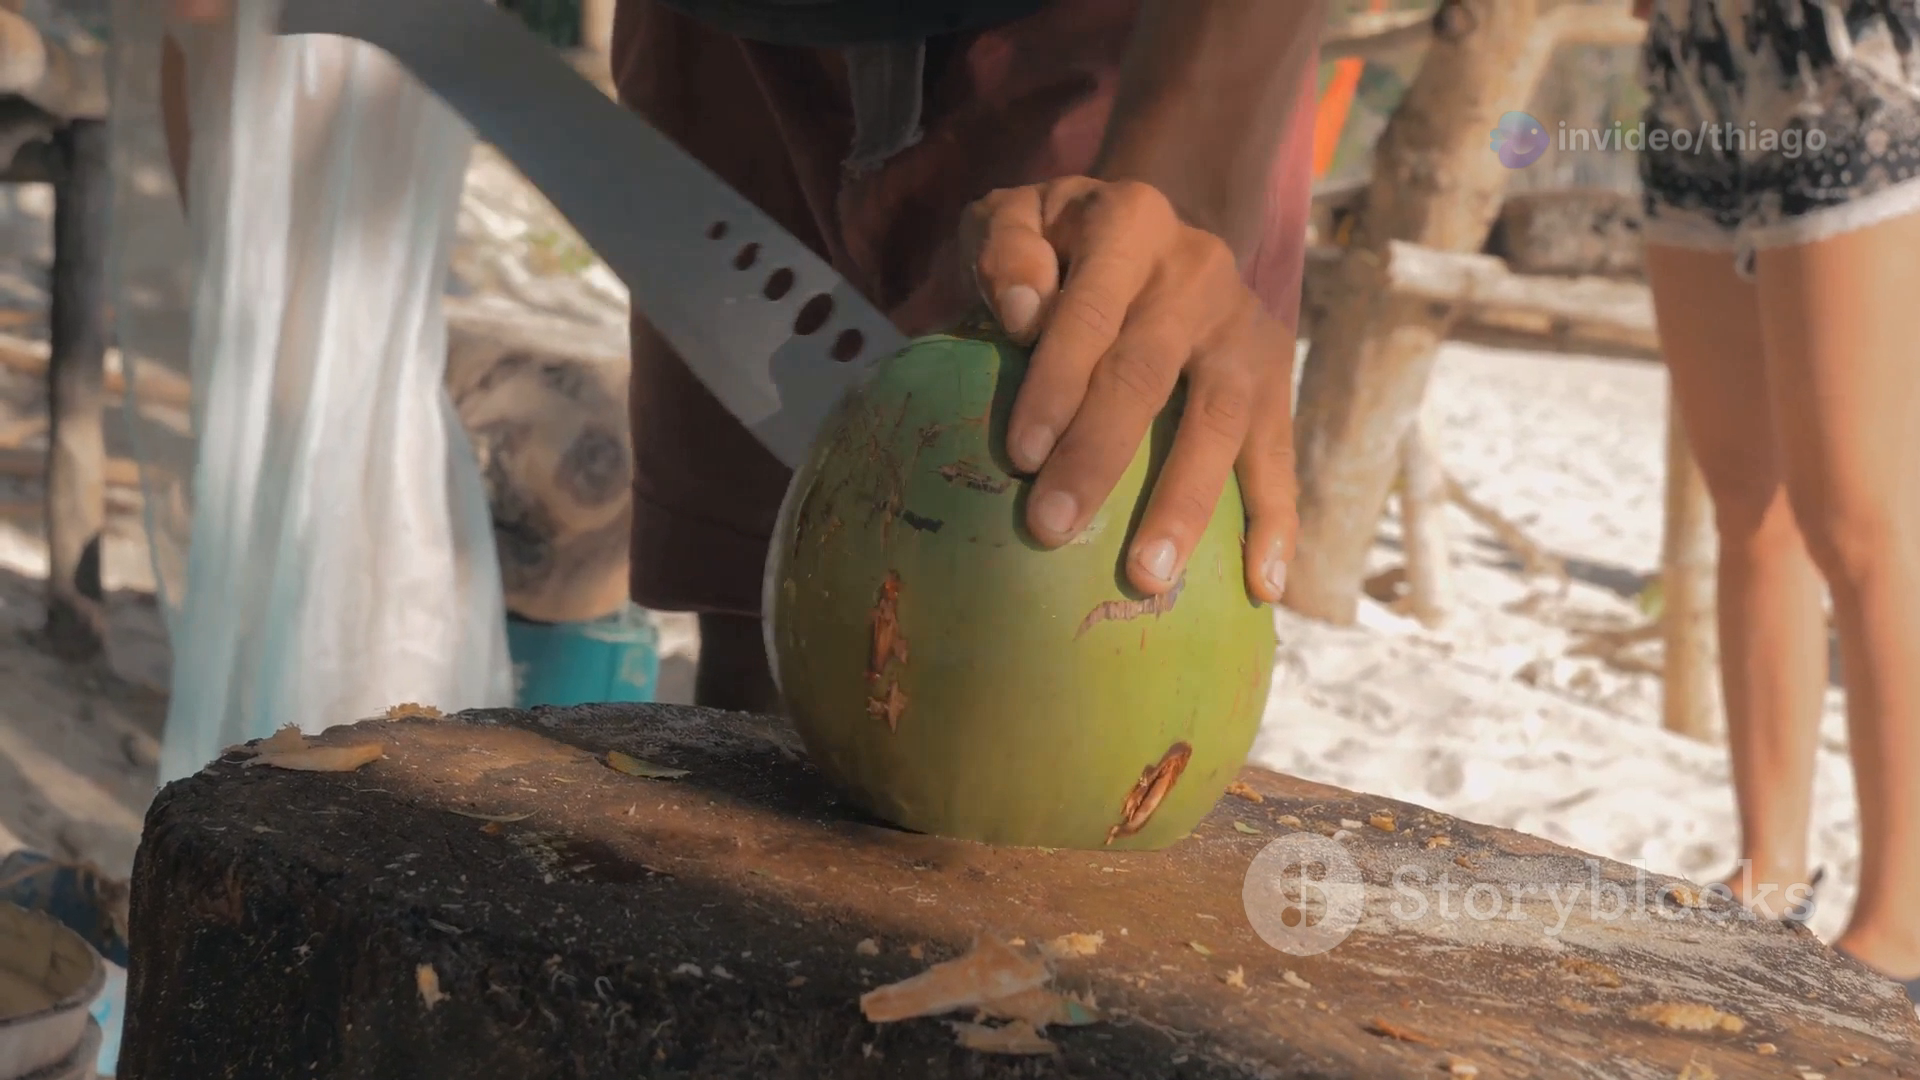cortante: (270, 0, 911, 473)
